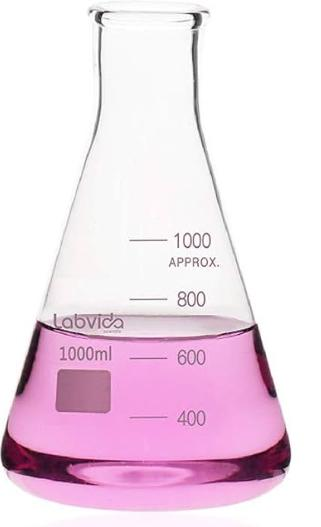Titrarion: (4, 6, 294, 511)
